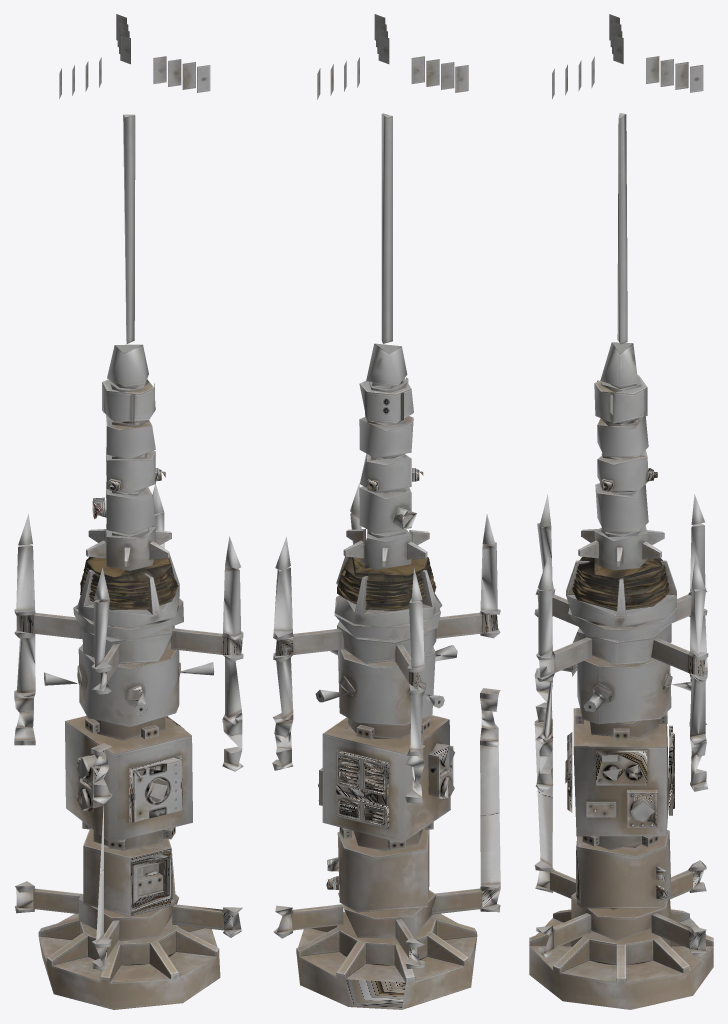
Rendered from vaporator.glb.
3 renders of one model, left to right at view 1: azimuth 30°, elevation 25°; view 2: azimuth 150°, elevation 25°; view 3: azimuth 270°, elevation 25°, orthographic.
Parts seen in each view (by area): view 1: Object_4; view 2: Object_4; view 3: Object_4.
Part boxes in pixels (x1,y1,x2,y2): Object_4: [14, 14, 243, 1009]; Object_4: [272, 14, 500, 1009]; Object_4: [529, 14, 713, 1009].
Size of the model in its own units: 0.9088 by 5 by 0.9082.
1 material, 1 textured.
